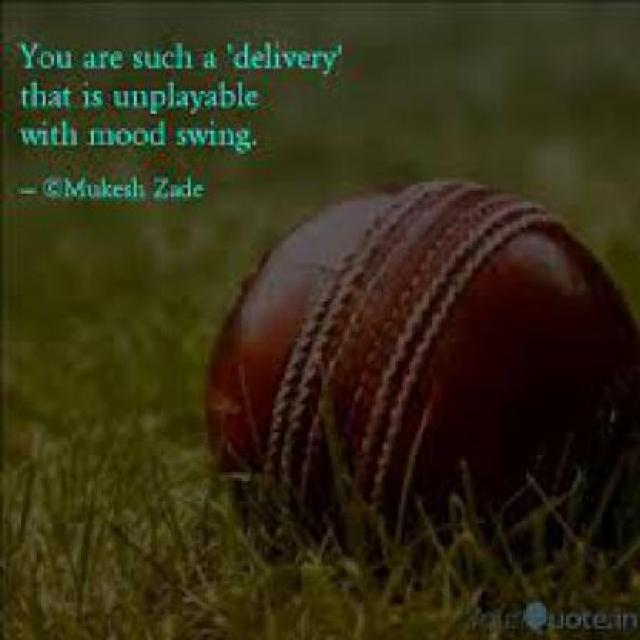ball: (183, 154, 640, 571)
